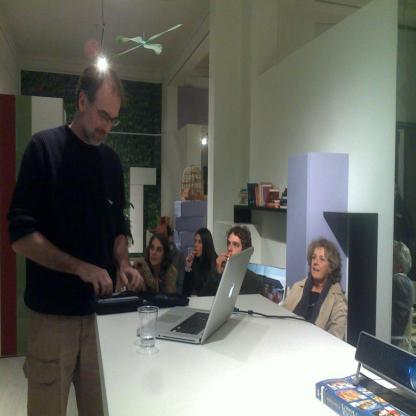board: (134, 247, 252, 342)
